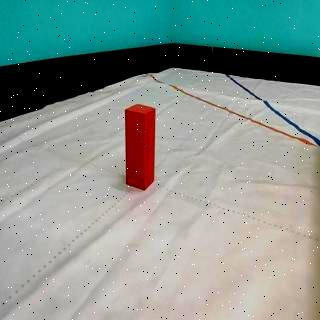redbox: (124, 104, 156, 190)
